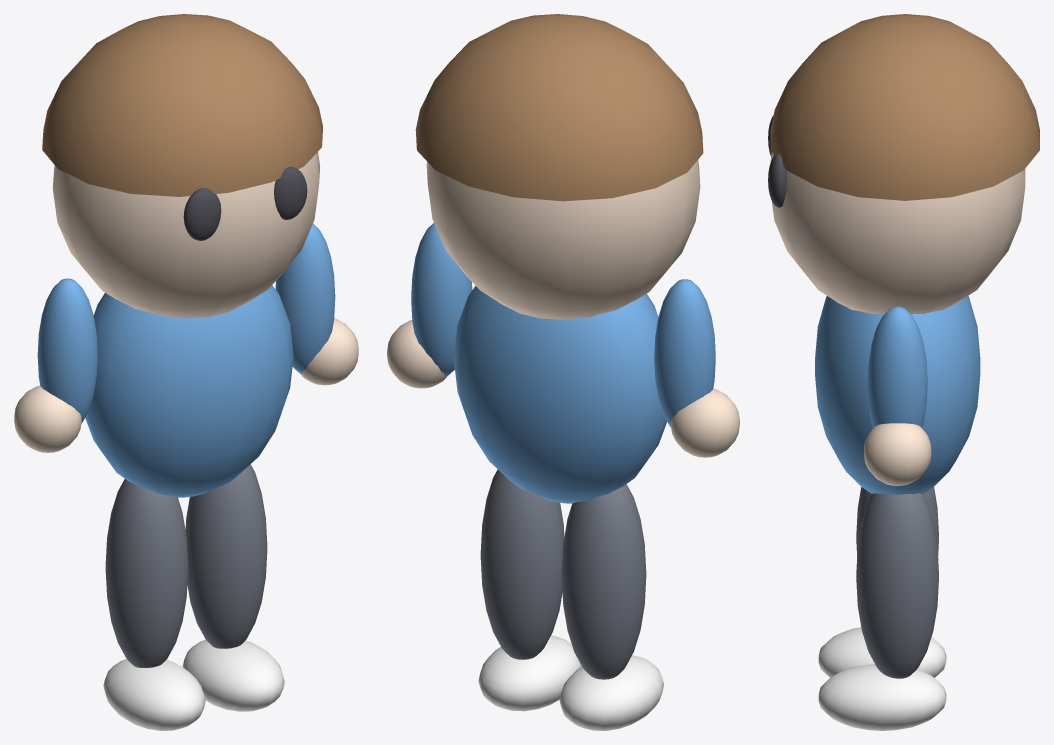
Rendered from avatar-placeholder.glb.
3 views of the same model, side by side, from view 1: azimuth 30°, elevation 25°; view 2: azimuth 150°, elevation 25°; view 3: azimuth 270°, elevation 25° (orthographic). The views are drawn at different scales.
Visible parts, largest first — view 1: shirt, hair, skin, pants, shoes, eyes; view 2: shirt, hair, skin, pants, shoes; view 3: hair, skin, shirt, pants, shoes, eyes.
Boxes of the visible parts, left/top/right/bottom form: shirt: left=37, top=223, right=335, bottom=497; hair: left=42, top=14, right=322, bottom=196; skin: left=14, top=152, right=358, bottom=452; pants: left=105, top=464, right=267, bottom=667; shoes: left=103, top=639, right=284, bottom=730; eyes: left=183, top=167, right=307, bottom=240; shirt: left=411, top=223, right=715, bottom=503; hair: left=415, top=14, right=703, bottom=201; skin: left=387, top=160, right=739, bottom=457; pants: left=480, top=469, right=646, bottom=679; shoes: left=478, top=635, right=663, bottom=730; hair: left=770, top=14, right=1039, bottom=200; skin: left=770, top=152, right=1025, bottom=485; shirt: left=815, top=296, right=980, bottom=494; pants: left=856, top=487, right=938, bottom=678; shoes: left=818, top=627, right=946, bottom=730; eyes: left=768, top=115, right=786, bottom=207.
Size of the model in its own units: 1.02 by 1.96 by 0.7123.
